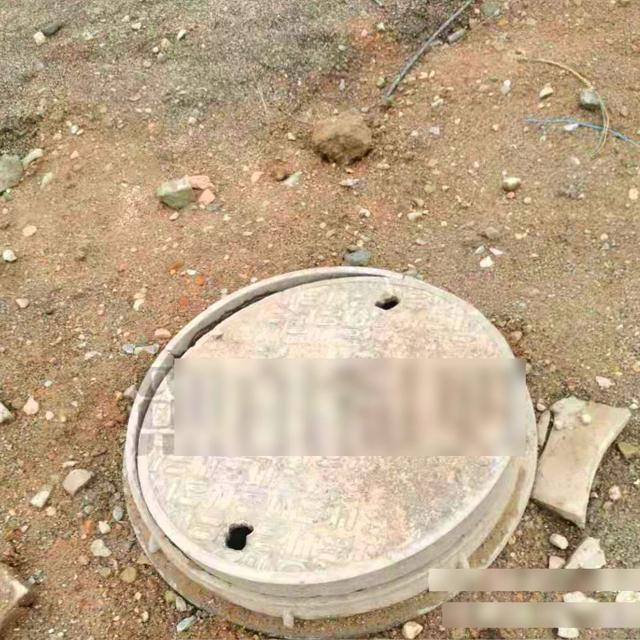uncovered: (122, 265, 538, 637)
